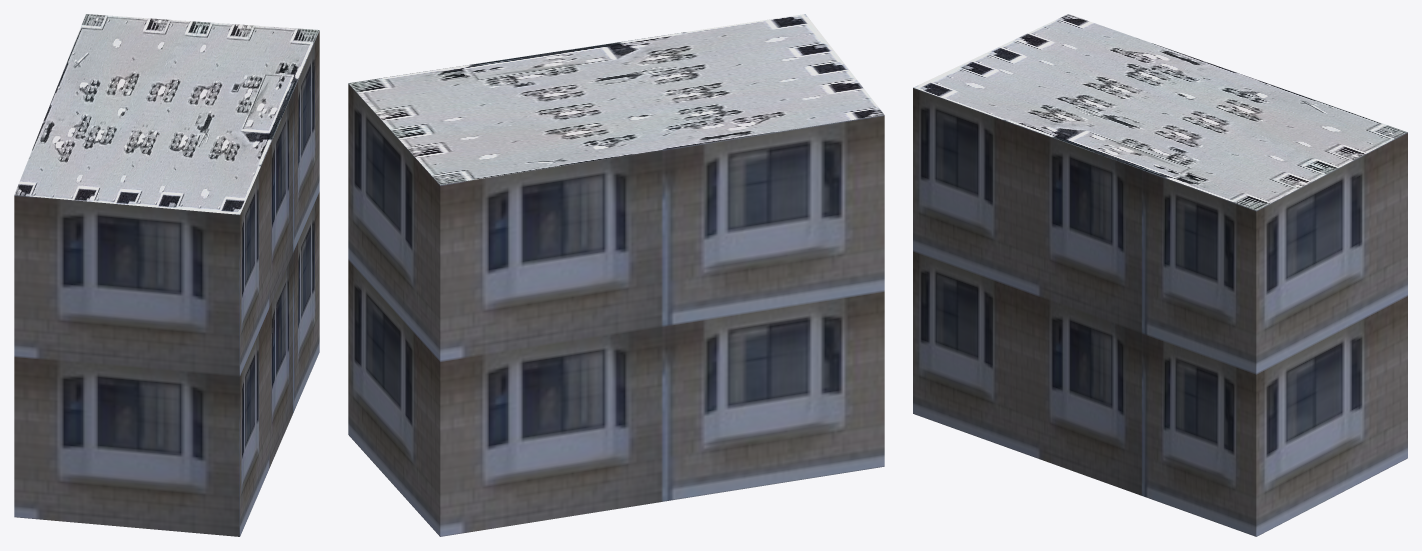
File: ResTex__2138.fbx
3 renders of one model, left to right at view 1: azimuth 30°, elevation 25°; view 2: azimuth 150°, elevation 25°; view 3: azimuth 270°, elevation 25°, orthographic. The views are drawn at different scales.
Parts seen in each view (by area): view 1: CityEngineMaterial_3_m, CityEngineMaterial_8_m; view 2: CityEngineMaterial_3_m, CityEngineMaterial_8_m; view 3: CityEngineMaterial_3_m, CityEngineMaterial_8_m.
Boxes of the visible parts, <box> form: CityEngineMaterial_3_m: <box>14,30,319,536</box>; CityEngineMaterial_8_m: <box>14,14,319,214</box>; CityEngineMaterial_3_m: <box>348,83,884,536</box>; CityEngineMaterial_8_m: <box>348,14,884,185</box>; CityEngineMaterial_3_m: <box>913,87,1407,536</box>; CityEngineMaterial_8_m: <box>913,14,1407,210</box>.
Bounding box in the file's own units: 7.76 × 6 × 8.25.
Materials: 2 (2 with a texture image).
